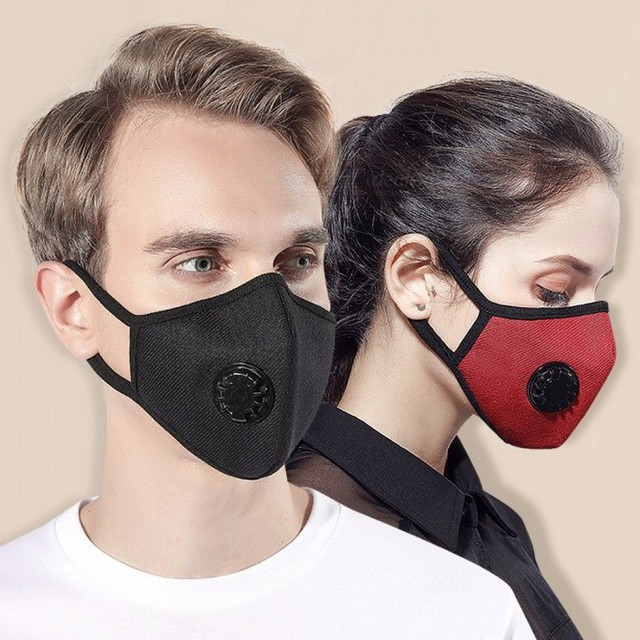mask: (140, 288, 346, 458), (478, 302, 630, 443)
